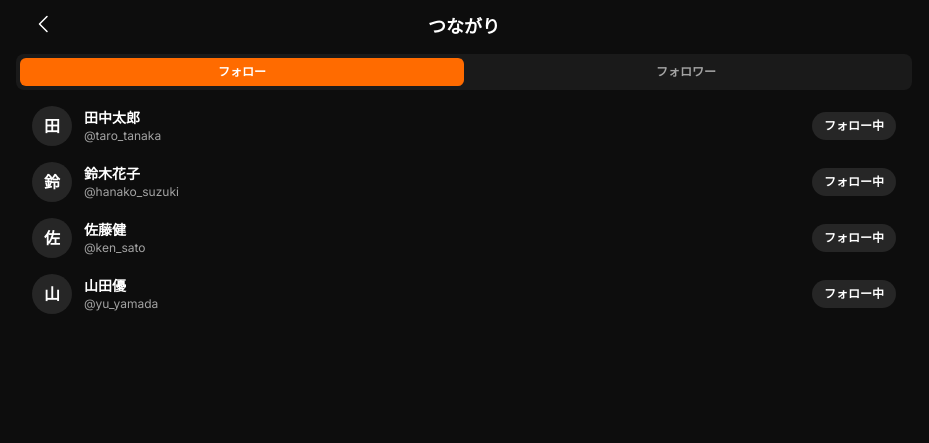
Scenario: FollowsPage › フォロワータブをクリックすると全ユーザーが表示される
The image size is (929, 443).
Step 1. Click the tab "フォロワー" → (686, 72), box [464,58,908,86]
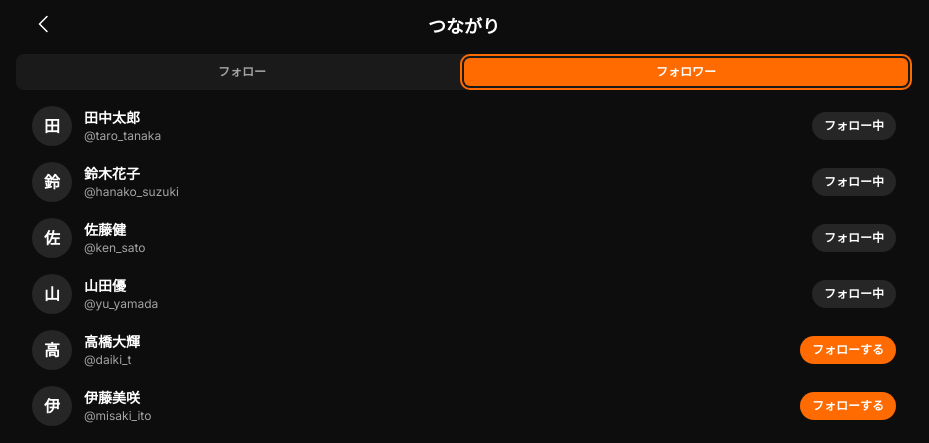
Expected: the text "田中太郎" is shown, [84,109,140,126]
Now the text "高橋大輝" is shown, box [84,333,140,350]
Now the text "伊藤美咲" is shown, box [84,389,140,406]
